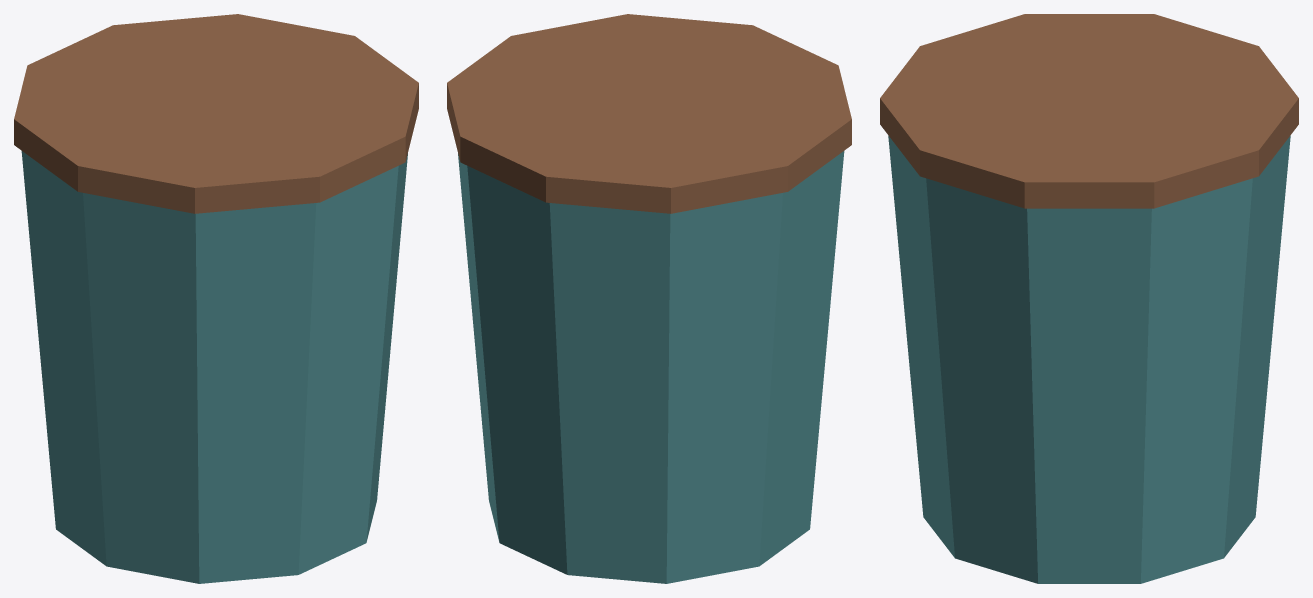
The model's file is SM_CH_Paper_Trash.fbx.
The picture shows the model from 3 angles, left to right: view 1: azimuth 30°, elevation 25°; view 2: azimuth 150°, elevation 25°; view 3: azimuth 270°, elevation 25°; orthographic projection.
Parts seen in each view (by area): view 1: SM_CH_Paper_Trash; view 2: SM_CH_Paper_Trash; view 3: SM_CH_Paper_Trash.
Boxes of the visible parts, box(x1,y1,x2,y2) form: SM_CH_Paper_Trash: box(14, 14, 418, 583); SM_CH_Paper_Trash: box(447, 14, 851, 583); SM_CH_Paper_Trash: box(880, 14, 1298, 583).
Bounding box in the file's own units: 5516 × 5800 × 6400.
